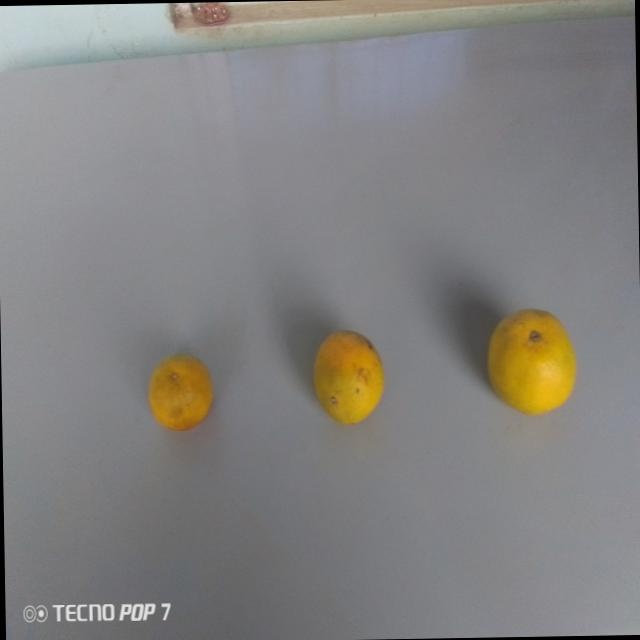agrume: (480, 303, 581, 420), (302, 319, 390, 434), (141, 345, 218, 443)
